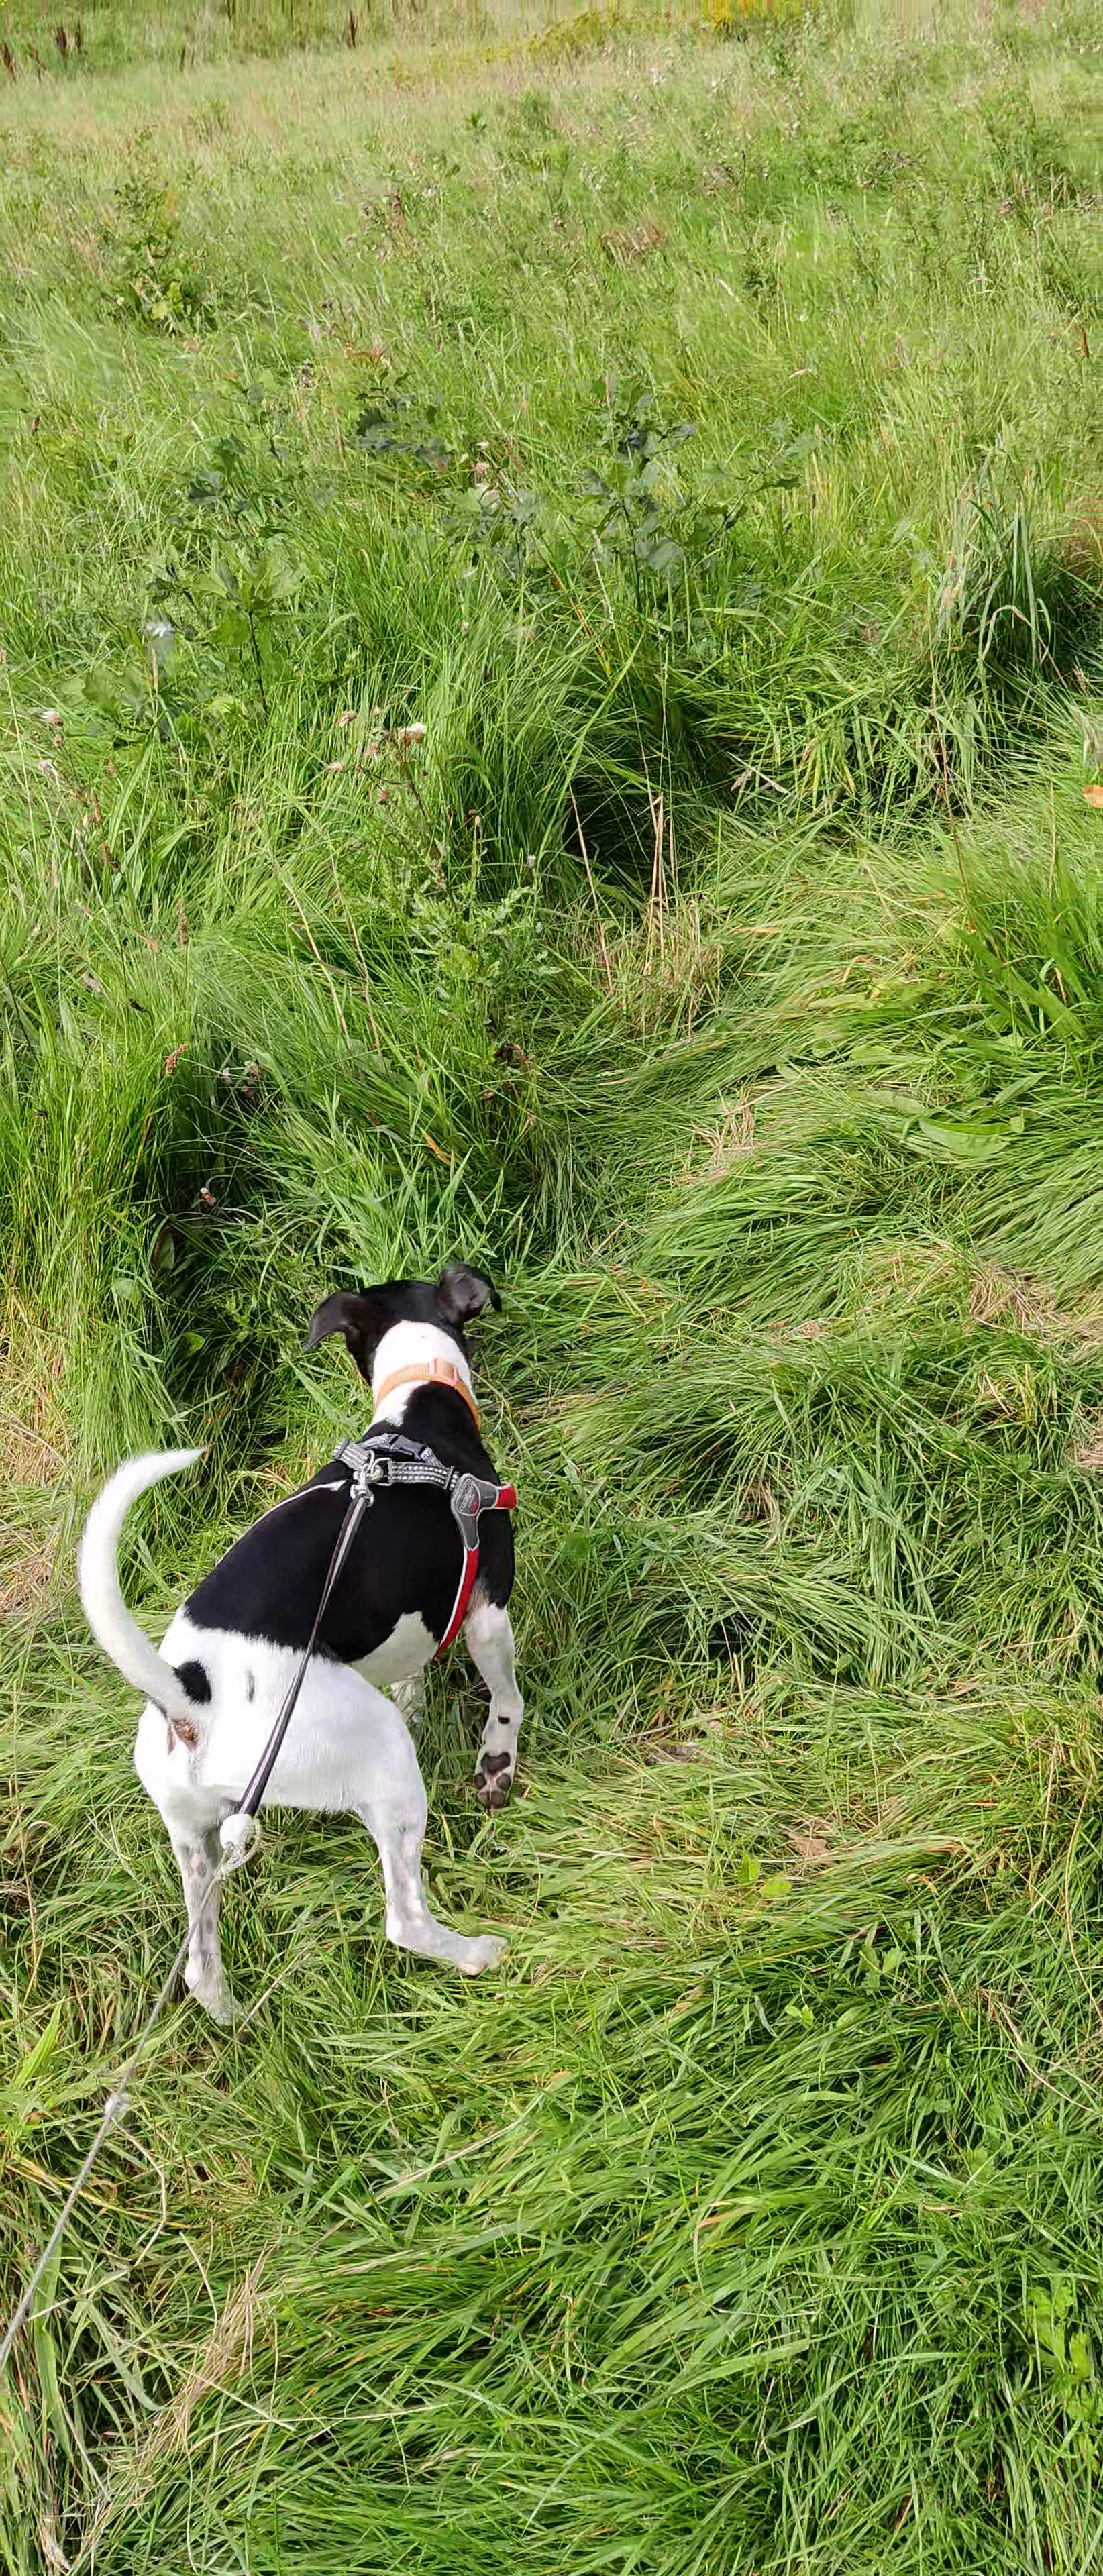Dog: (61, 1232, 556, 2040)
